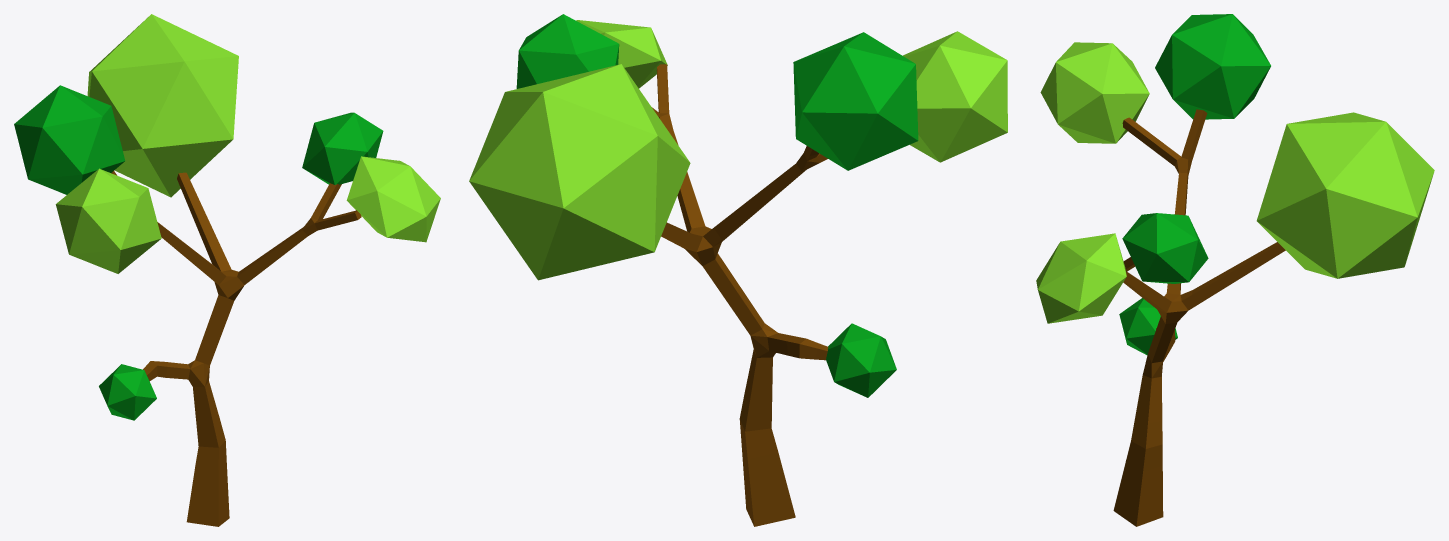
The model's file is Tree02.fbx.
3 renders of one model, left to right at view 1: azimuth 30°, elevation 25°; view 2: azimuth 150°, elevation 25°; view 3: azimuth 270°, elevation 25°, orthographic. The views are drawn at different scales.
Visible parts, largest first — view 1: Icosphere.009, Tree02, Icosphere.010, Icosphere.011, Icosphere.012, Icosphere.013, Icosphere.008; view 2: Icosphere.009, Tree02, Icosphere.010, Icosphere.011, Icosphere.013, Icosphere.008, Icosphere.012; view 3: Icosphere.009, Tree02, Icosphere.010, Icosphere.011, Icosphere.012, Icosphere.013, Icosphere.008.
Boxes of the visible parts, x1=… form: Icosphere.009: x1=87, y1=14, x2=238, y2=197; Tree02: x1=111, y1=171, x2=361, y2=526; Icosphere.010: x1=14, y1=85, x2=125, y2=194; Icosphere.011: x1=55, y1=168, x2=161, y2=273; Icosphere.012: x1=346, y1=156, x2=440, y2=242; Icosphere.013: x1=302, y1=112, x2=383, y2=184; Icosphere.008: x1=99, y1=364, x2=156, y2=420; Icosphere.009: x1=469, y1=64, x2=690, y2=280; Tree02: x1=652, y1=64, x2=828, y2=526; Icosphere.010: x1=793, y1=32, x2=918, y2=170; Icosphere.011: x1=903, y1=31, x2=1007, y2=162; Icosphere.013: x1=516, y1=14, x2=619, y2=88; Icosphere.008: x1=826, y1=323, x2=896, y2=397; Icosphere.012: x1=576, y1=20, x2=667, y2=88; Icosphere.009: x1=1256, y1=112, x2=1434, y2=278; Tree02: x1=1113, y1=109, x2=1285, y2=526; Icosphere.010: x1=1155, y1=14, x2=1270, y2=119; Icosphere.011: x1=1040, y1=42, x2=1149, y2=143; Icosphere.012: x1=1036, y1=233, x2=1126, y2=323; Icosphere.013: x1=1122, y1=213, x2=1208, y2=283; Icosphere.008: x1=1119, y1=298, x2=1177, y2=355.
Bounding box in the file's own units: 803 × 897 × 720.
